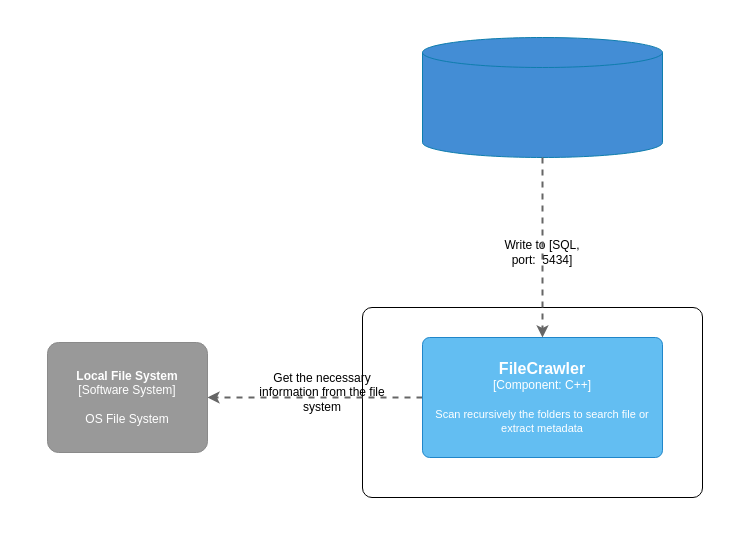
This 744x544 diagram has some shape labels left out. The shapes that lost their labels are listed below. From the top down, each one's box as (x1, y1, x2, y2) in pixels, then its label:
(422, 36, 662, 158): Relational Database [Container: PostgreSQL] Stores files metadata
(362, 306, 702, 498): Indexer [Component]
